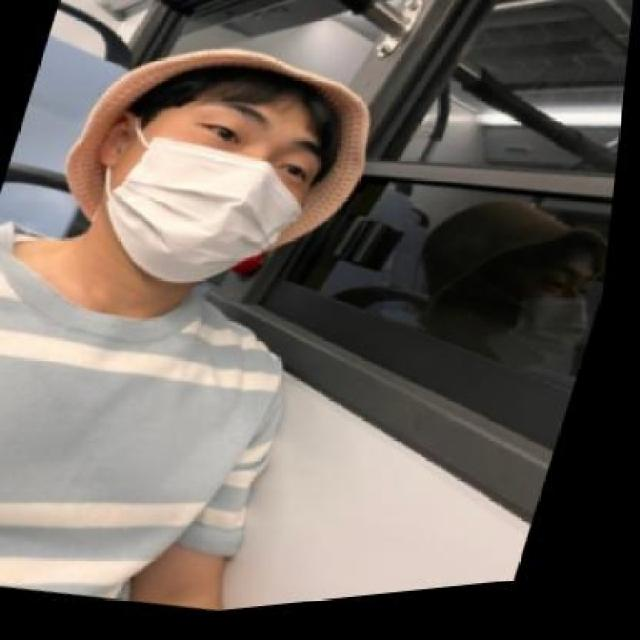hat: (68, 52, 373, 260)
